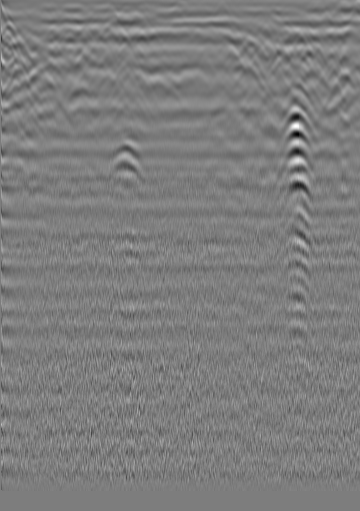가스: (104, 138, 146, 175)
상수: (27, 14, 52, 41)
오수: (293, 21, 313, 41)
우수: (165, 17, 185, 37)
